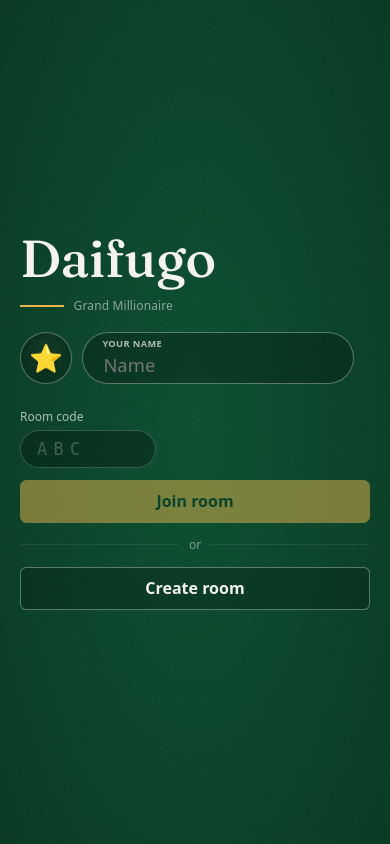
Test: Lobby › shows selected player icons in the roster and standings
In the field labelled "Your name": (218, 358) [82, 332, 354, 384], type "Will"
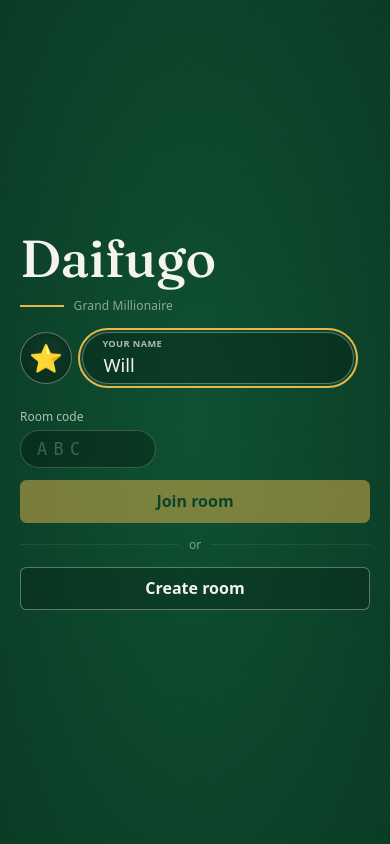
In the field labelled "Room code": (88, 449) [20, 430, 156, 468], type "ABC234"
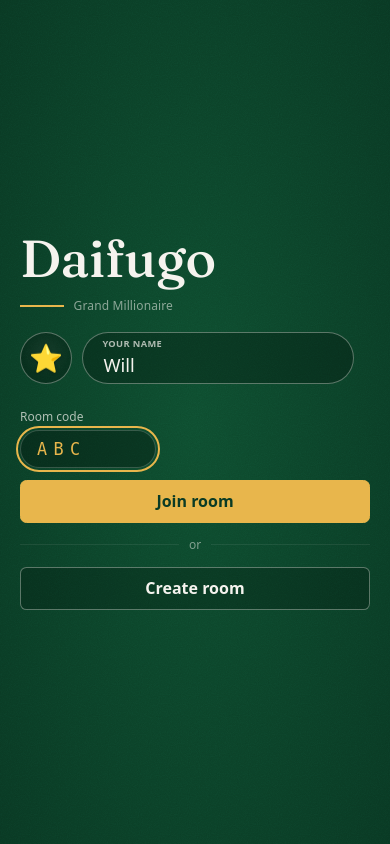
Click the button "Join room": (195, 501) [20, 480, 370, 523]
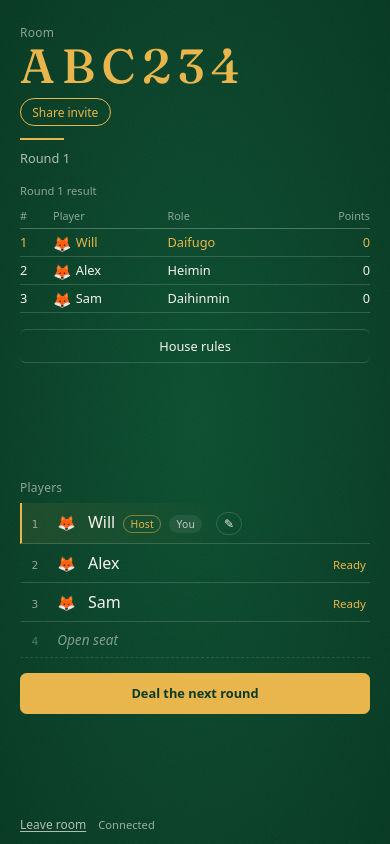
Expected: the number of icons "🦊" is 3, [53, 236, 72, 251]; [53, 264, 72, 279]; [53, 292, 72, 307]
